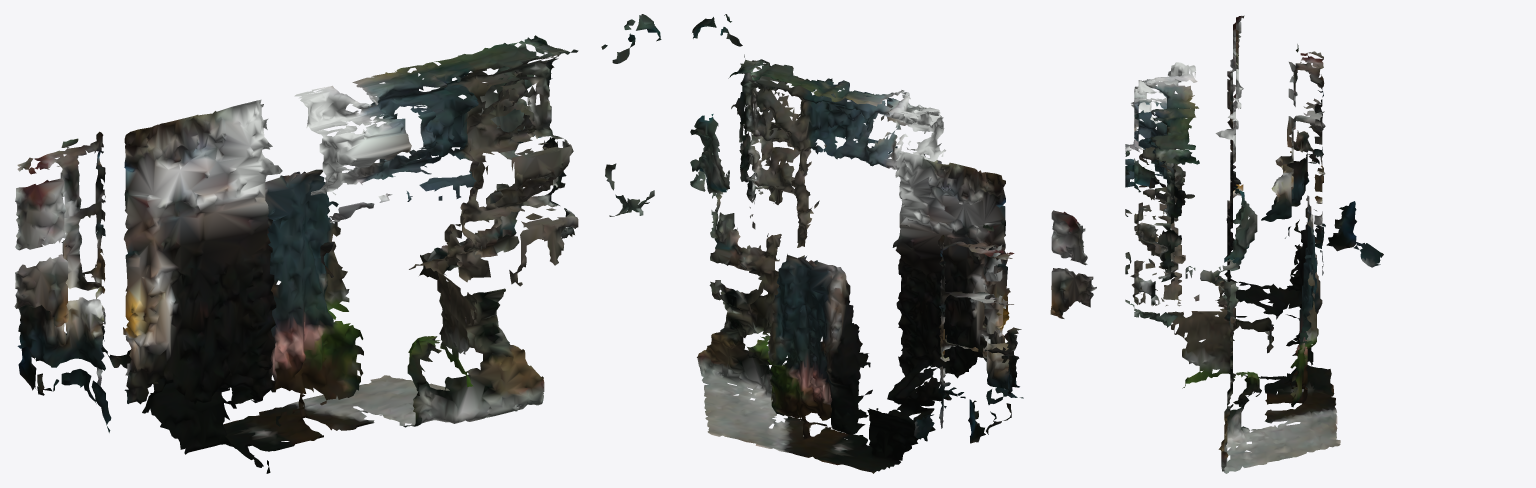
The picture shows the model from 3 angles, left to right: view 1: azimuth 30°, elevation 25°; view 2: azimuth 150°, elevation 25°; view 3: azimuth 270°, elevation 25°; orthographic projection. The views are drawn at different scales.
Bounding box in the file's own units: 3.09 × 2.18 × 2.27.
